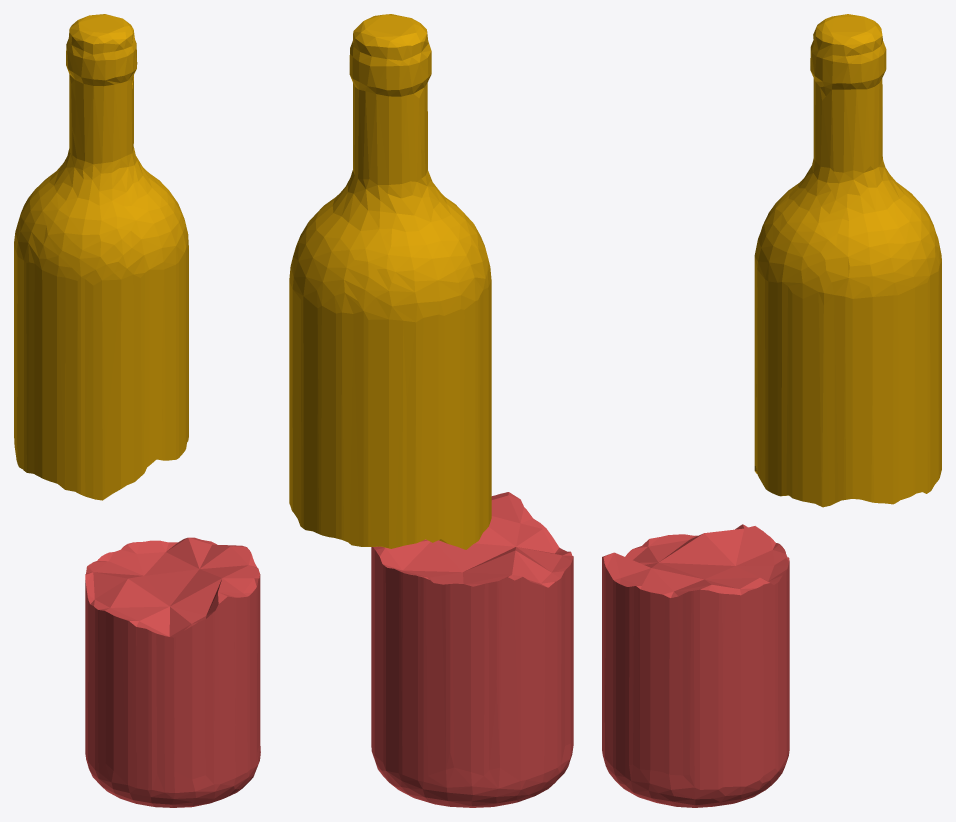
Rendered from fractured_4_2pcs_transformed.glb.
3 views of the same model, side by side, from view 1: azimuth 30°, elevation 25°; view 2: azimuth 150°, elevation 25°; view 3: azimuth 270°, elevation 25° (orthographic). The views are drawn at different scales.
Visible parts, largest first — view 1: piece_0.obj, piece_1.obj; view 2: piece_0.obj, piece_1.obj; view 3: piece_0.obj, piece_1.obj.
Part boxes in pixels (box(x1,y1,x2,y2)): piece_0.obj: box(14, 14, 188, 500); piece_1.obj: box(85, 537, 260, 807); piece_0.obj: box(289, 14, 491, 549); piece_1.obj: box(371, 492, 573, 807); piece_0.obj: box(754, 14, 941, 507); piece_1.obj: box(602, 524, 789, 807).
Size of the model in its own units: 0.2559 by 1.14 by 0.4639.
